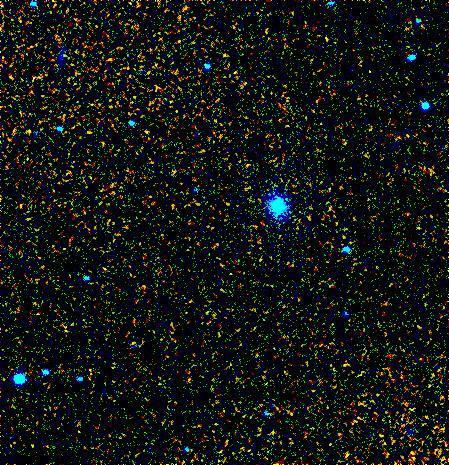star: (220, 55, 250, 85)
